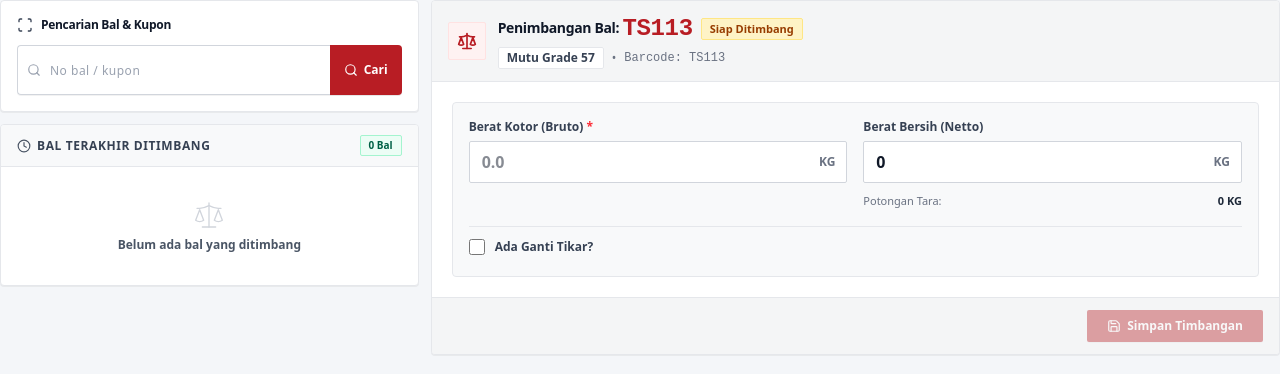
Test: Timbangan: perubahan langsung tersimpan ke server › centang Ganti Tikar yang ditolak server dikembalikan, tidak tinggal di layar saja
Click the checkbox labelled "Ada Ganti Tikar?": click(477, 246) 469,238 -> 485,254
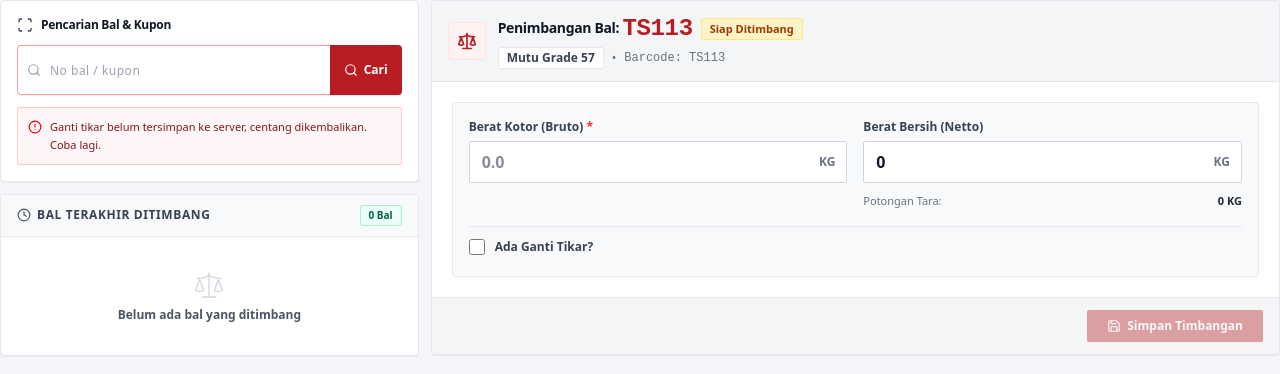
Now the text "belum tersimpan ke server" is shown, box 50,119 -> 367,152
